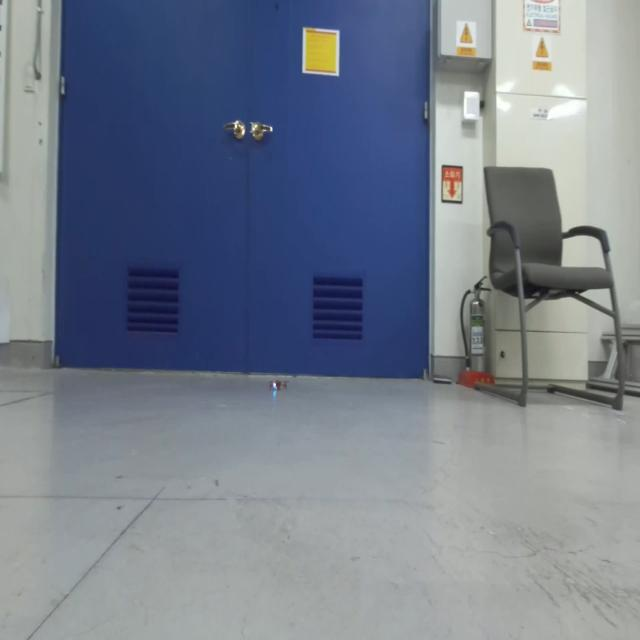crazyflie: (264, 373, 290, 401)
